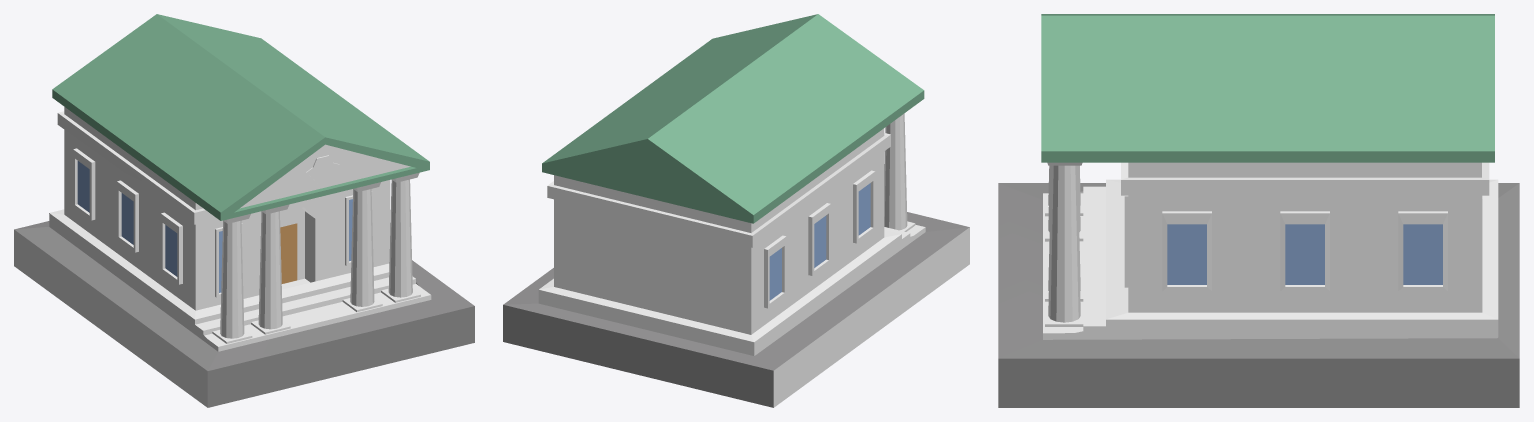
File: Town bank.fbx
3 renders of one model, left to right at view 1: azimuth 30°, elevation 25°; view 2: azimuth 150°, elevation 25°; view 3: azimuth 270°, elevation 25°, orthographic. The views are drawn at different scales.
Parts seen in each view (by area): view 1: TownBank-2; view 2: TownBank-2; view 3: TownBank-2.
Boxes of the visible parts, bbox=[...] form: TownBank-2: bbox=[14, 14, 474, 407]; TownBank-2: bbox=[503, 14, 969, 407]; TownBank-2: bbox=[998, 14, 1519, 407].
Size of the model in its own units: 1.73 by 1.4 by 2.18.
